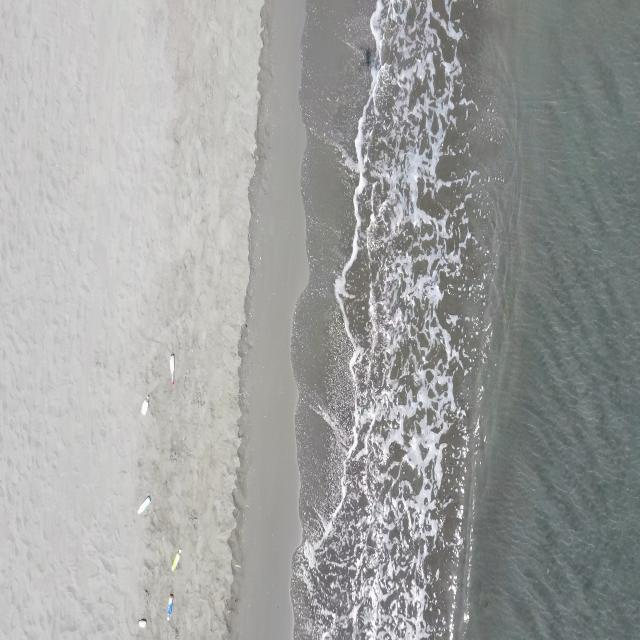Garbage: (136, 495, 150, 512), (171, 548, 180, 569), (140, 393, 148, 415), (167, 592, 172, 620), (169, 353, 173, 384), (138, 617, 145, 627)
